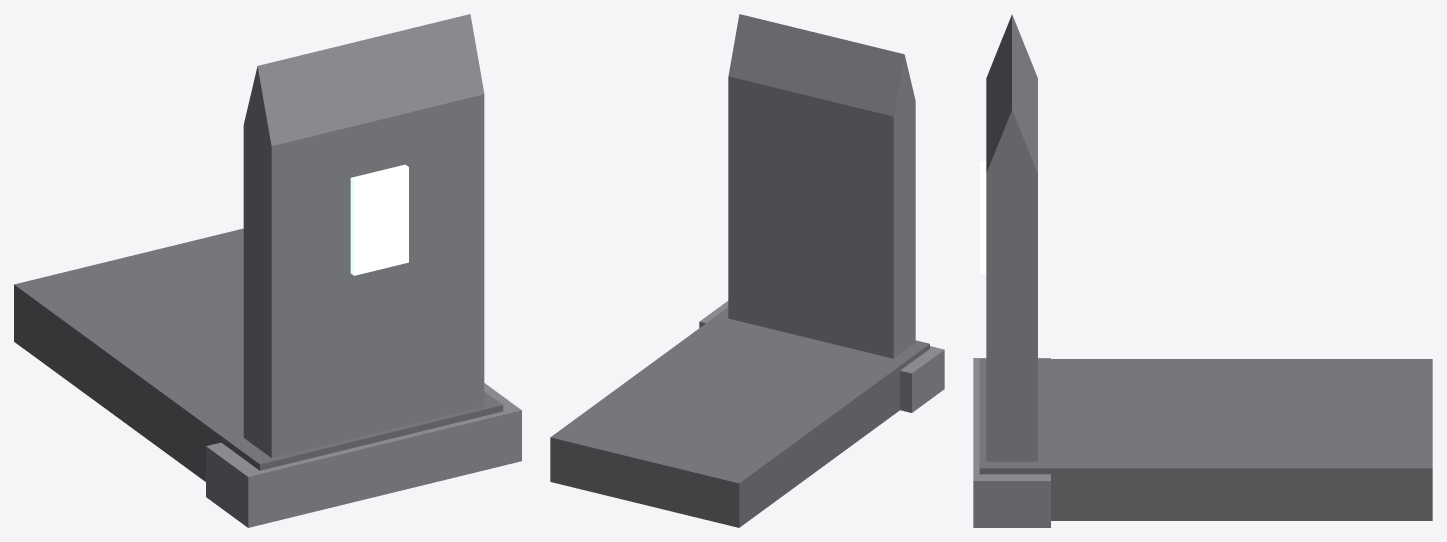
The model's file is gravestone.glb.
3 views of the same model, side by side, from view 1: azimuth 30°, elevation 25°; view 2: azimuth 150°, elevation 25°; view 3: azimuth 270°, elevation 25° (orthographic). The views are drawn at different scales.
Visible parts, largest first — view 1: gravestone; view 2: gravestone; view 3: gravestone.
Boxes of the visible parts, x1=… form: gravestone: x1=14, y1=14, x2=521, y2=527; gravestone: x1=550, y1=14, x2=944, y2=527; gravestone: x1=973, y1=14, x2=1432, y2=527.
Size of the model in its own units: 0.9 by 1.38 by 1.42.
